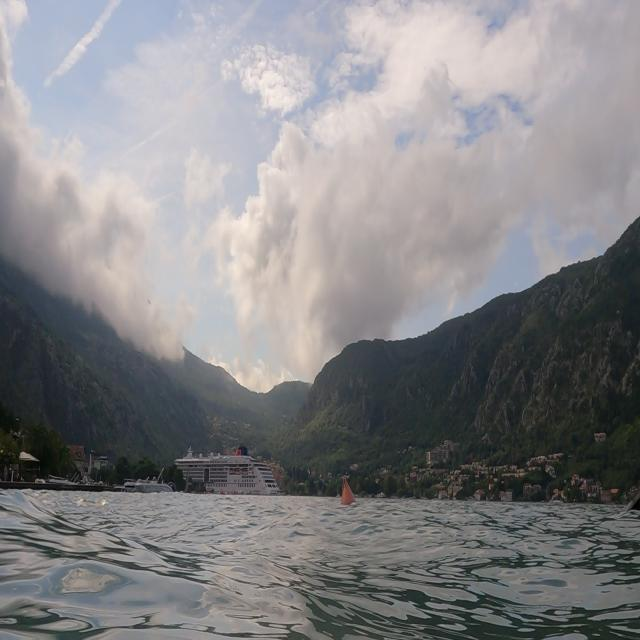boat: (173, 442, 284, 498), (121, 464, 177, 502)
buoy: (336, 472, 358, 513)
